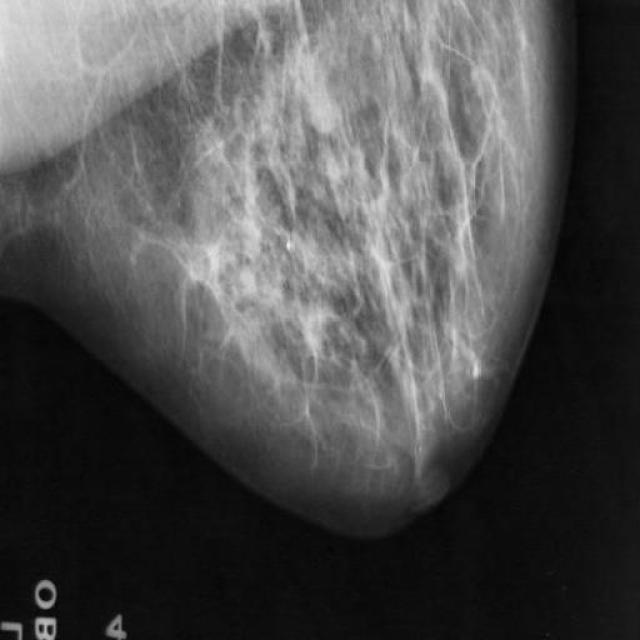cancer: (270, 289, 340, 411)
